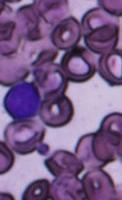L: (2, 80, 42, 120)
